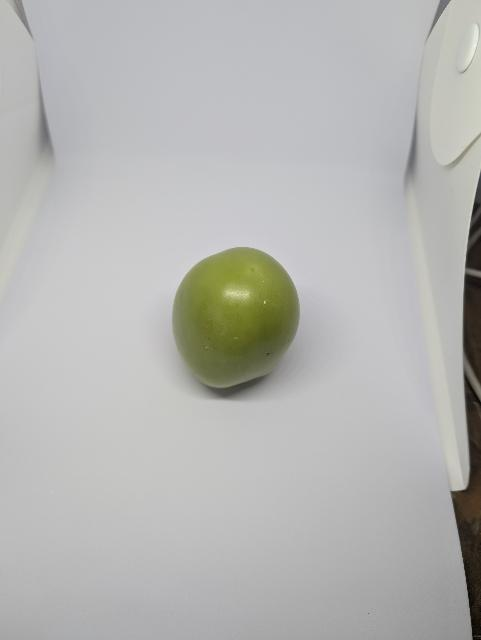green: (162, 235, 320, 395)
